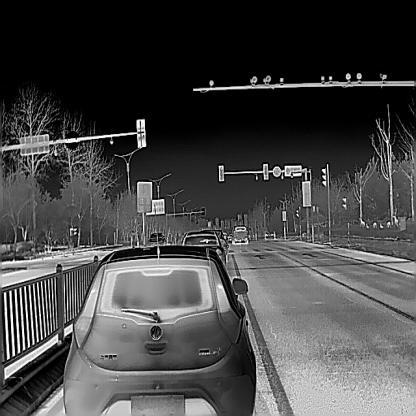car: (63, 246, 256, 416), (180, 230, 226, 268), (230, 224, 248, 242), (148, 232, 165, 246)
